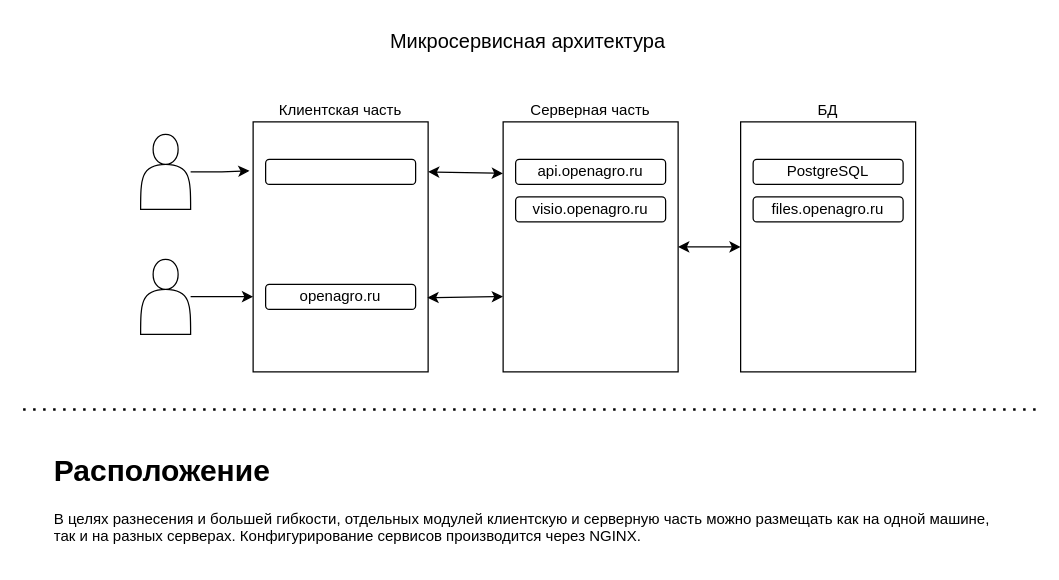
Image size: 1059x580. Some labels were removed from this diagram. The shapes that lost their labels are listed below. From the top down, each one's centre as x and y in pixels, then its label:
At (165,171): "Механизатор".
At (340,171): "m.openagro.ru".
At (165,296): "Диспетчер".
